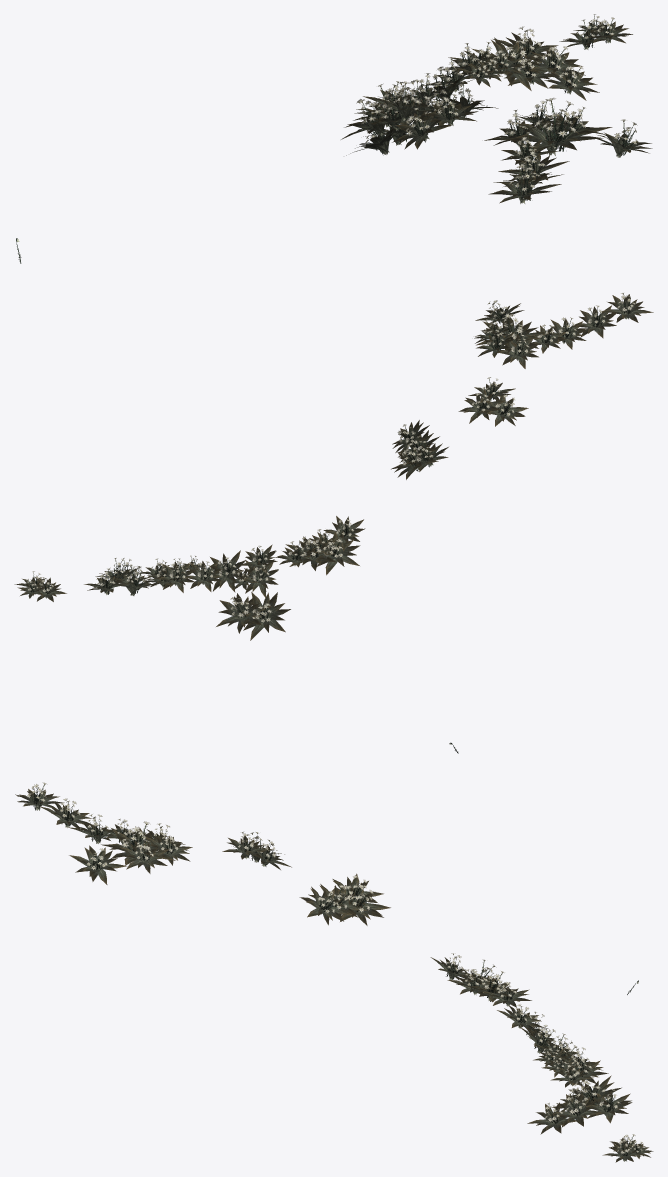
File: grass06.fbx
3 views of the same model, one above another, from view 1: azimuth 30°, elevation 25°; view 2: azimuth 150°, elevation 25°; view 3: azimuth 270°, elevation 25° (orthographic). The views are drawn at different scales.
Visible parts, largest first — view 1: m001212_1; view 2: m001212_1; view 3: m001212_1.
Boxes of the visible parts, x1,y1,x2,y2 form: m001212_1: [16, 14, 652, 263]; m001212_1: [14, 293, 653, 753]; m001212_1: [15, 782, 653, 1162].
Bounding box in the file's own units: 110906 × 57753 × 125874.
Materials: 1 (1 with a texture image).
